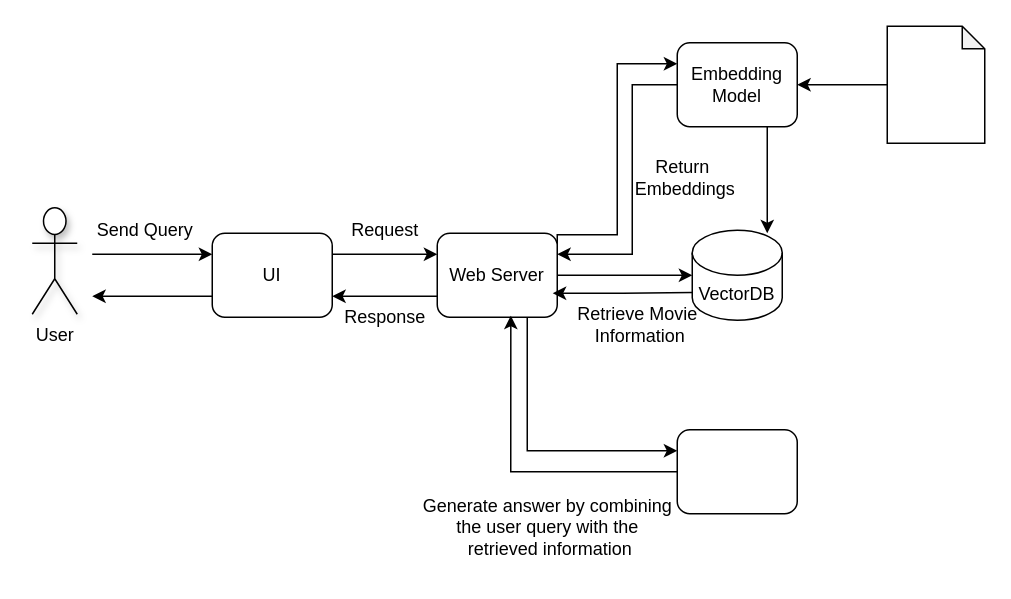
Some shapes in this 1011 by 599 pixel diagram are drawn without their labels. The shapes that lost their labels are listed below. From the top down, each one's centre as x and y in pixels, then its label:
(x=935, y=84): Hong Kong Movie Data (Showing)
(x=736, y=471): LLM
